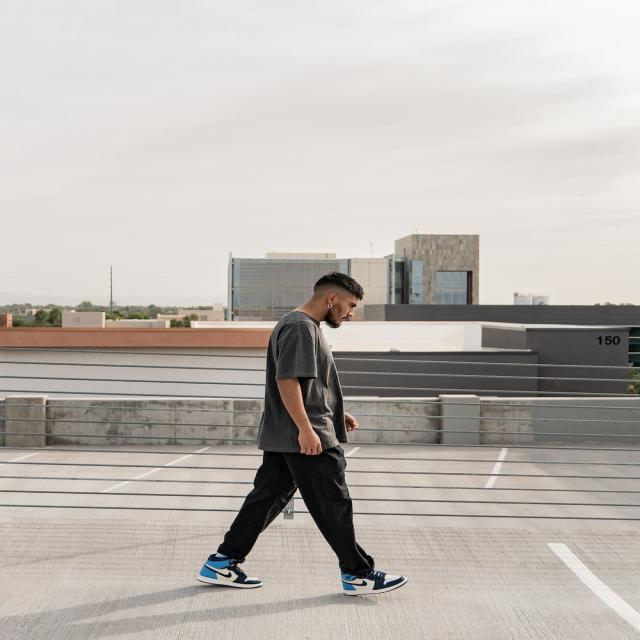Person: (197, 272, 406, 596)
